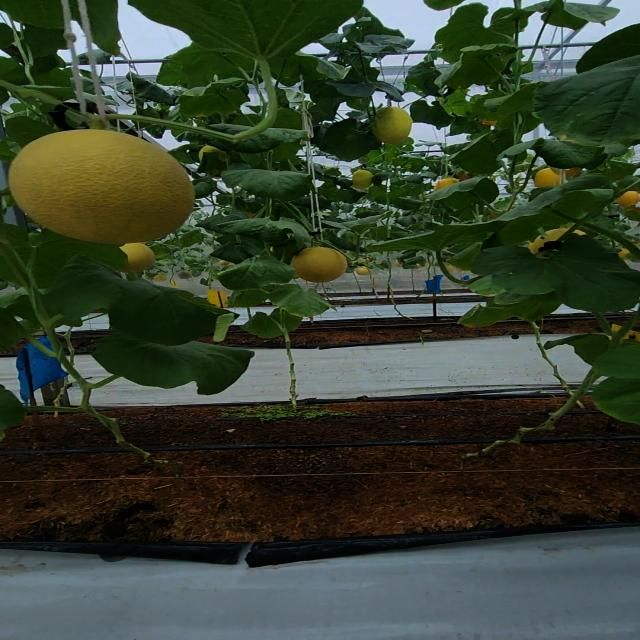Front-melon: (7, 132, 198, 242)
Rear-melon: (292, 247, 349, 285), (375, 109, 411, 147)
